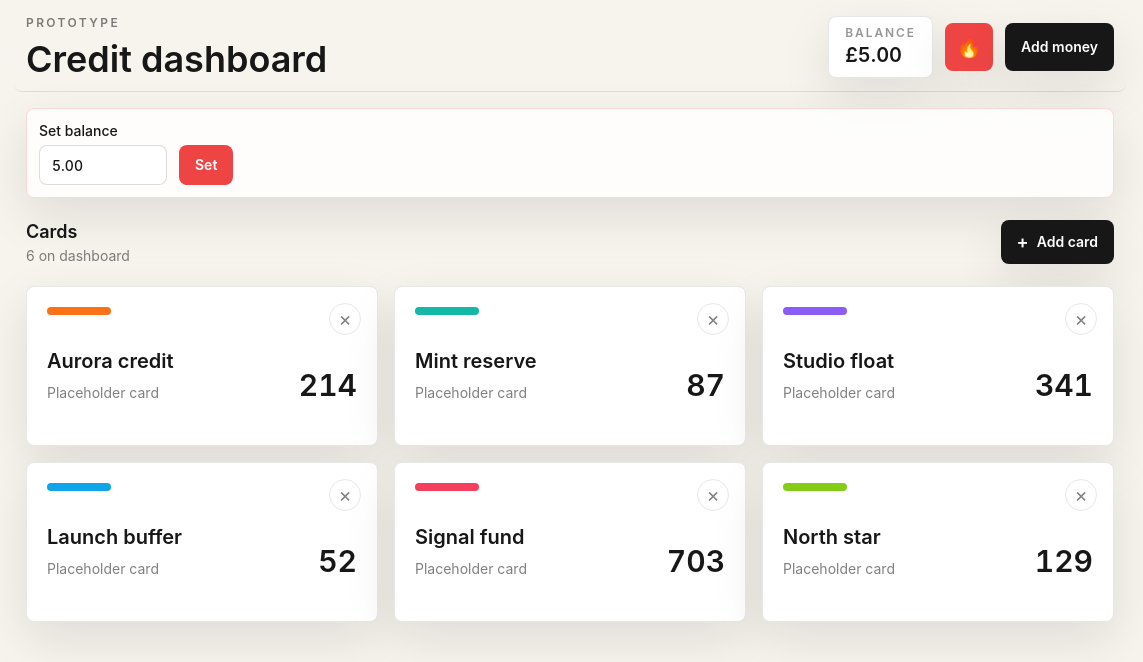
DashboardClient dev controls › sets the local balance when test controls are enabled
This screenshot has width=1143, height=662.
Expected: the form with test id "dev-set-balance" is shown, left=26, top=108, right=1114, bottom=198
Type "0.01" into the field labelled "Set balance" at (103, 165), box left=39, top=145, right=167, bottom=185
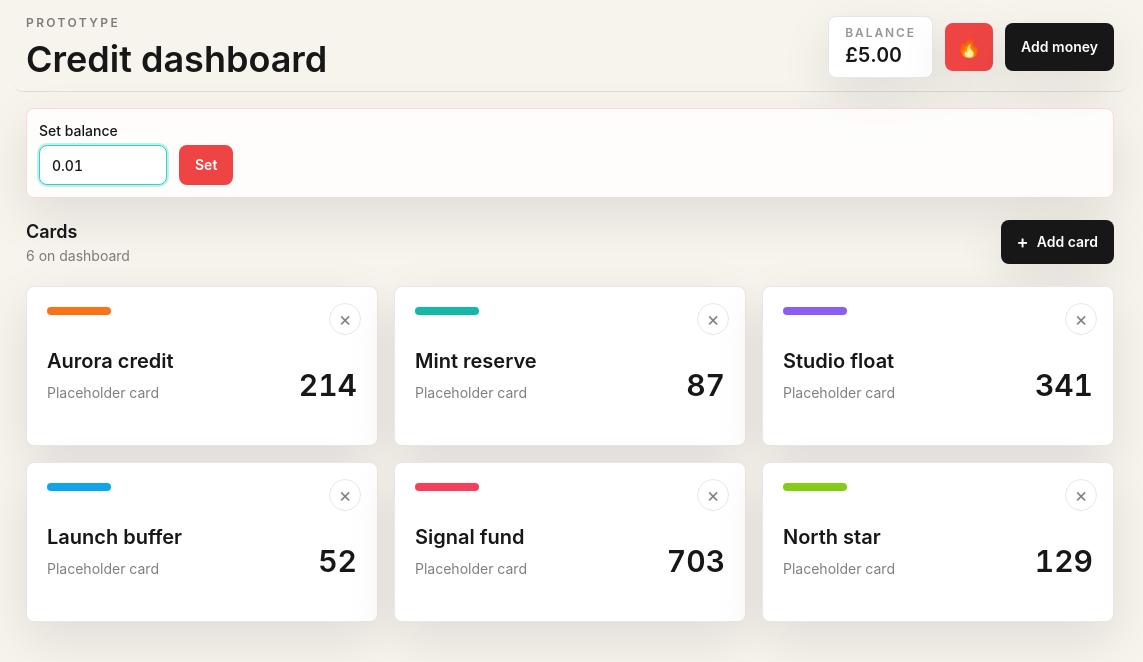
Click the button "Set" at (206, 165), box left=179, top=145, right=233, bottom=185
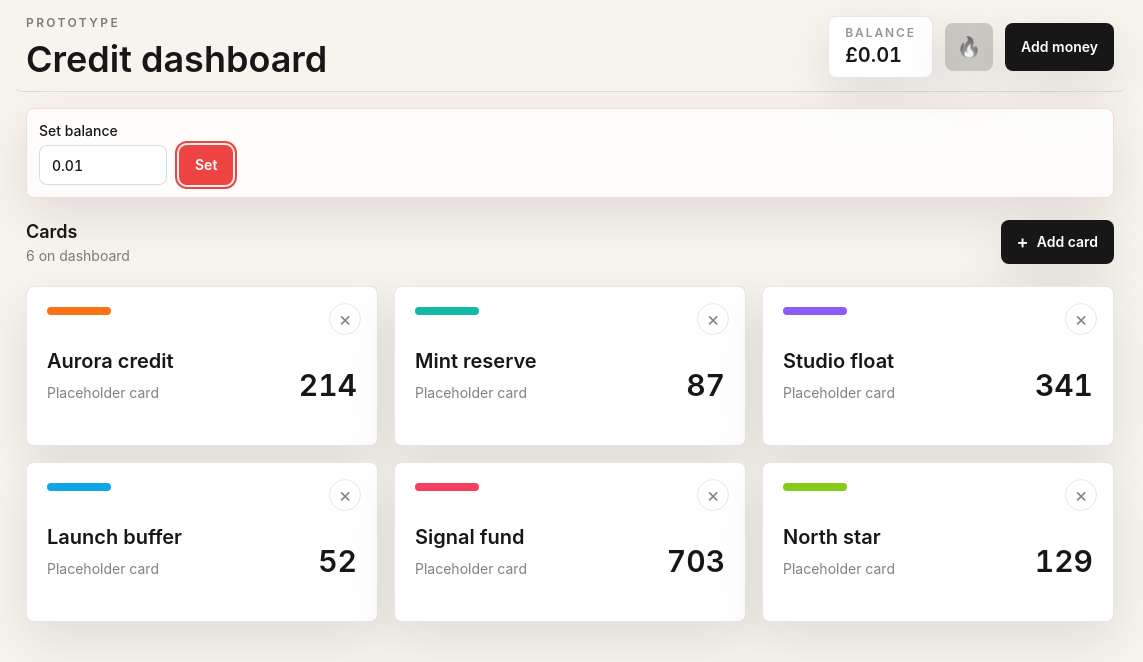
Now the text "£0.01" is shown, box left=845, top=43, right=902, bottom=67
Now the button named "Fire" is disabled, box left=945, top=23, right=993, bottom=71
